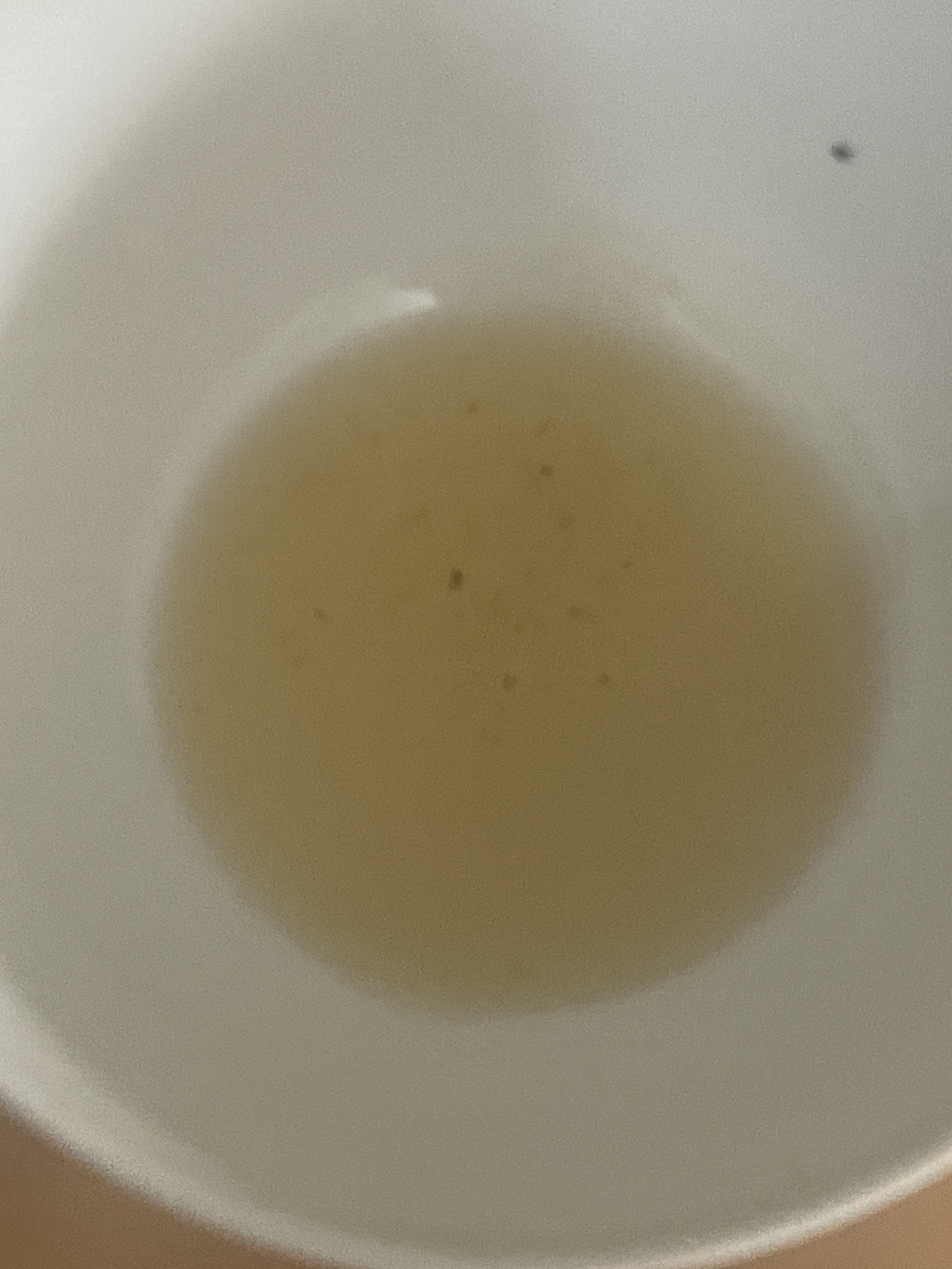reusable: (151, 299, 883, 1017)
